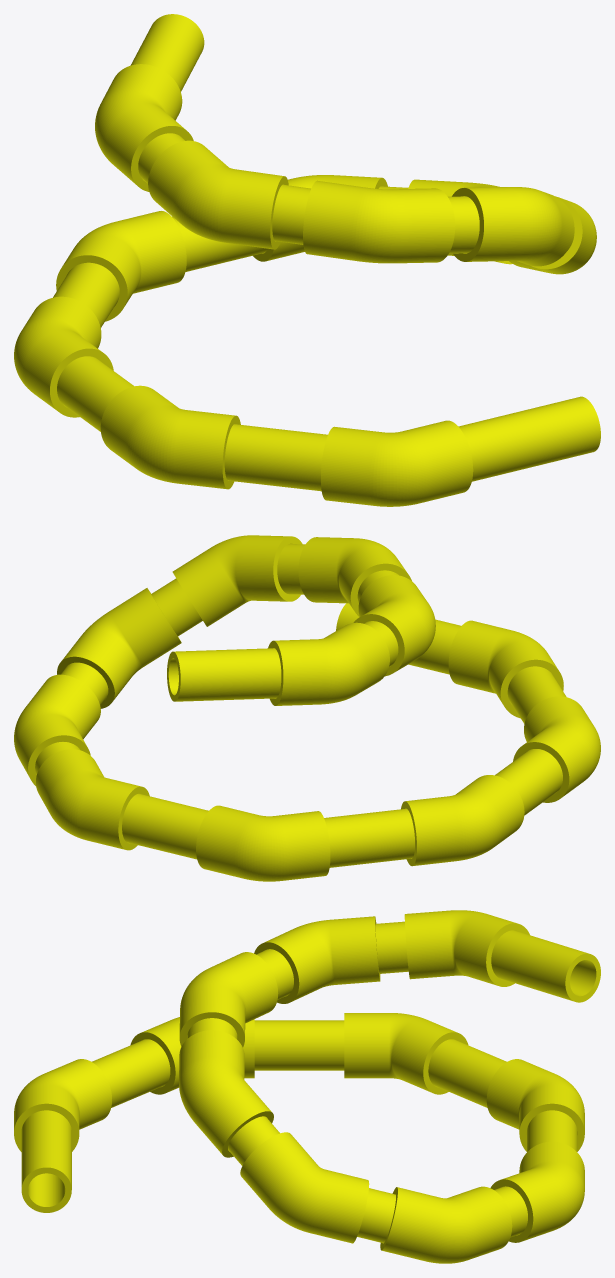
File: nautilus.dae
The picture shows the model from 3 angles, top to bottom: view 1: azimuth 30°, elevation 25°; view 2: azimuth 150°, elevation 25°; view 3: azimuth 270°, elevation 25°; orthographic projection. The views are drawn at different scales.
Visible parts, largest first — view 1: nautilus; view 2: nautilus; view 3: nautilus.
Boxes of the visible parts, bbox=[...] form: nautilus: bbox=[14, 14, 600, 506]; nautilus: bbox=[14, 535, 600, 881]; nautilus: bbox=[14, 910, 600, 1263].
Size of the model in its own units: 0.2254 by 0.2492 by 0.1026.
